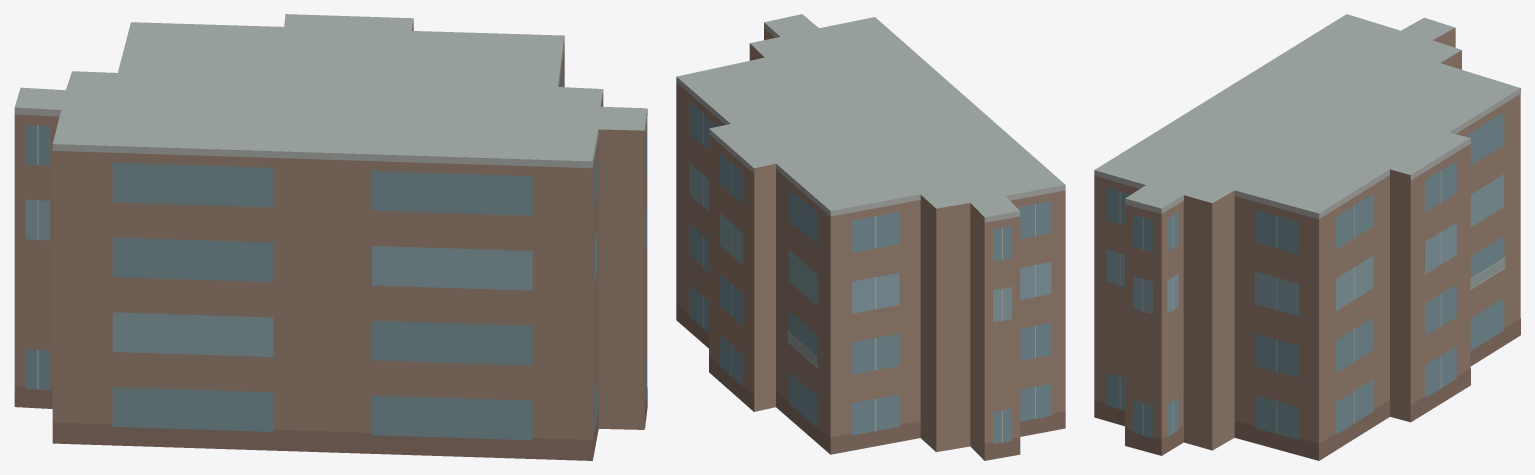
The model's file is survey-upis-32586023.glb.
3 views of the same model, side by side, from view 1: azimuth 30°, elevation 25°; view 2: azimuth 150°, elevation 25°; view 3: azimuth 270°, elevation 25° (orthographic). The views are drawn at different scales.
Visible parts, largest first — view 1: survey-upis-32586023.tmp; view 2: survey-upis-32586023.tmp; view 3: survey-upis-32586023.tmp.
Boxes of the visible parts, <box> form: survey-upis-32586023.tmp: <box>14,14,647,460</box>; survey-upis-32586023.tmp: <box>676,14,1065,460</box>; survey-upis-32586023.tmp: <box>1094,14,1520,460</box>.
Size of the model in its own units: 18.7 by 10.8 by 16.89.
